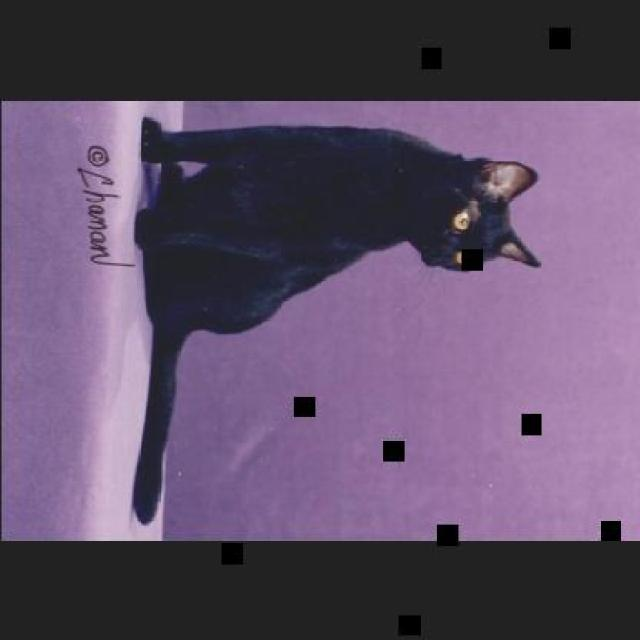unauthorized: (128, 116, 542, 524)
